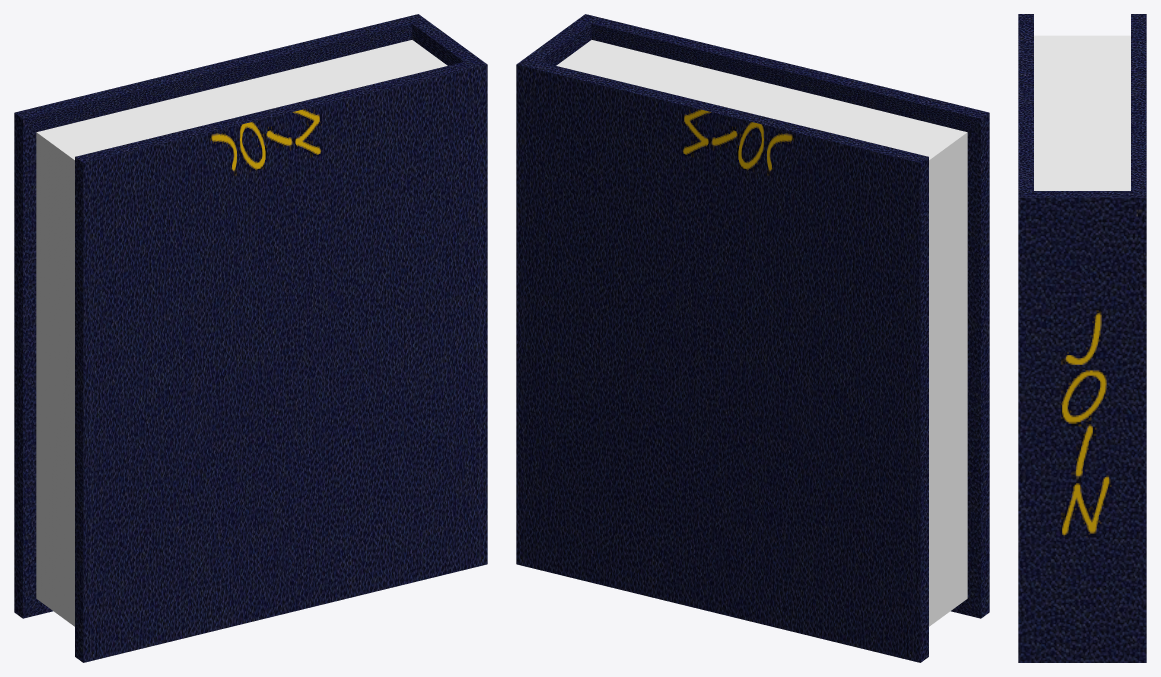
The model's file is BookJoin.obj.
3 views of the same model, side by side, from view 1: azimuth 30°, elevation 25°; view 2: azimuth 150°, elevation 25°; view 3: azimuth 270°, elevation 25° (orthographic). The views are drawn at different scales.
Parts seen in each view (by area): view 1: book.033; view 2: book.033; view 3: book.033.
Boxes of the visible parts, <box> form: book.033: <box>14,14,487,662</box>; book.033: <box>516,14,989,662</box>; book.033: <box>1018,14,1146,662</box>.
Size of the model in its own units: 0.2094 by 0.2476 by 0.0619.
